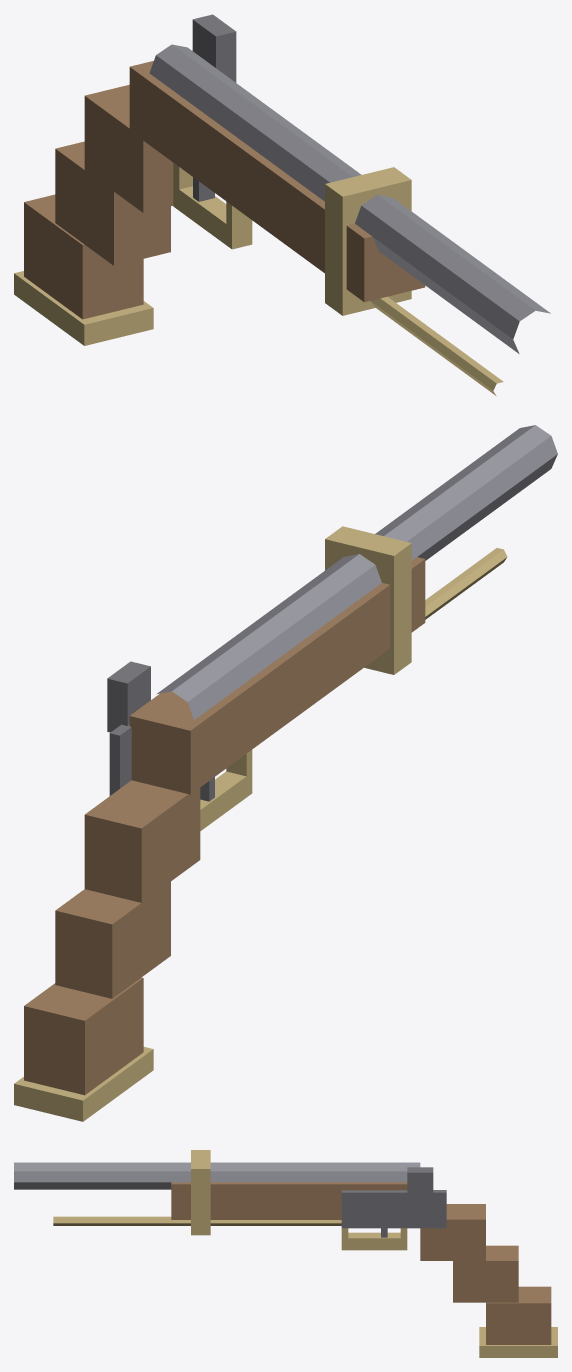
Rendered from pistol.glb.
3 views of the same model, one above another, from view 1: azimuth 30°, elevation 25°; view 2: azimuth 150°, elevation 25°; view 3: azimuth 270°, elevation 25° (orthographic). The views are drawn at different scales.
Visible parts, largest first — view 1: prop; view 2: prop; view 3: prop.
Boxes of the visible parts, x1,y1,x2,y2 form: prop: (14, 14, 550, 395); prop: (14, 425, 557, 1121); prop: (14, 1150, 557, 1357).
Bounding box in the file's own units: 0.043 × 0.16 × 0.415.
